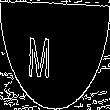M_N: (43, 29, 67, 81)
